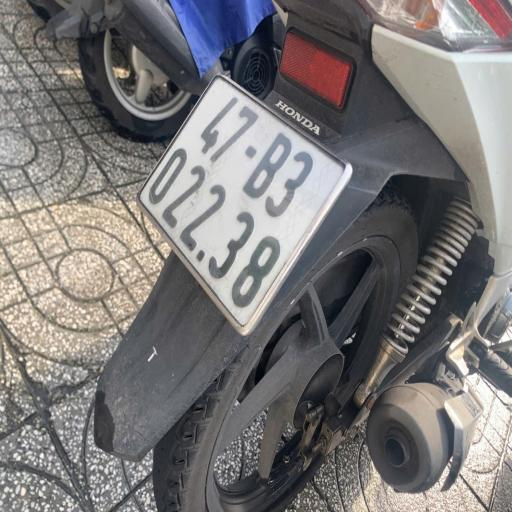0: (147, 146, 187, 204)
2: (181, 186, 231, 250), (161, 166, 210, 230)
3: (266, 151, 314, 223), (212, 212, 253, 277)
4: (200, 81, 238, 151)
7: (212, 108, 259, 166)
8: (231, 236, 282, 312)
B: (246, 132, 292, 200)
